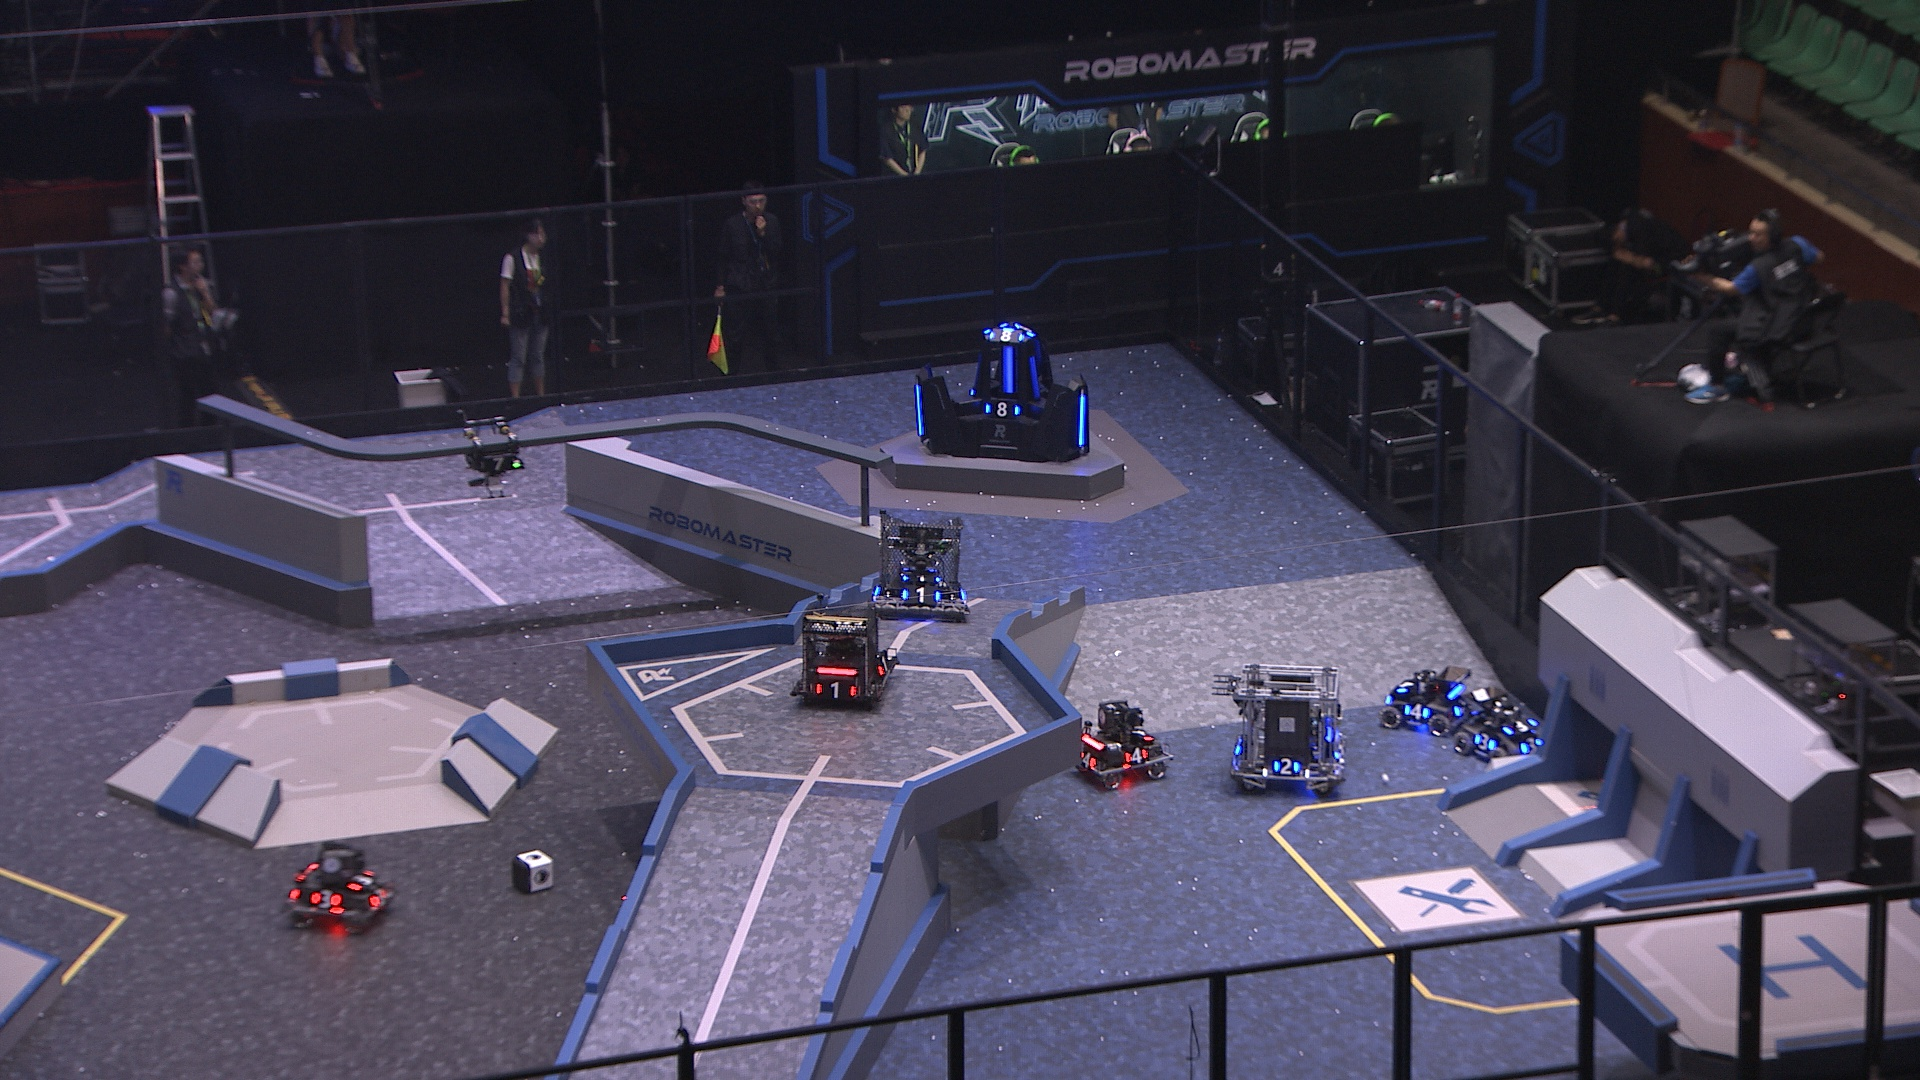armor: (998, 345, 1019, 400), (814, 678, 858, 700), (1506, 708, 1548, 731), (910, 382, 926, 440), (343, 865, 377, 891), (898, 584, 942, 604), (1076, 392, 1091, 450), (477, 454, 520, 472), (986, 324, 1025, 344), (982, 401, 1022, 419), (1403, 698, 1432, 721), (310, 887, 340, 910), (1026, 353, 1040, 400), (1472, 731, 1498, 754), (899, 571, 942, 585), (1271, 757, 1302, 777), (368, 884, 392, 909), (1516, 735, 1544, 756), (1451, 694, 1474, 717), (873, 651, 893, 679), (1121, 745, 1149, 764), (1077, 749, 1100, 770), (1230, 731, 1245, 761), (1130, 727, 1156, 742), (1394, 675, 1416, 694), (1329, 738, 1346, 761), (1015, 323, 1036, 339)
base: (906, 319, 1095, 465)
car: (1224, 661, 1352, 794), (790, 593, 902, 708), (869, 508, 975, 622), (286, 839, 396, 934), (1069, 698, 1172, 793), (1378, 659, 1495, 737), (1448, 683, 1557, 765)
watcher: (456, 407, 527, 500)
